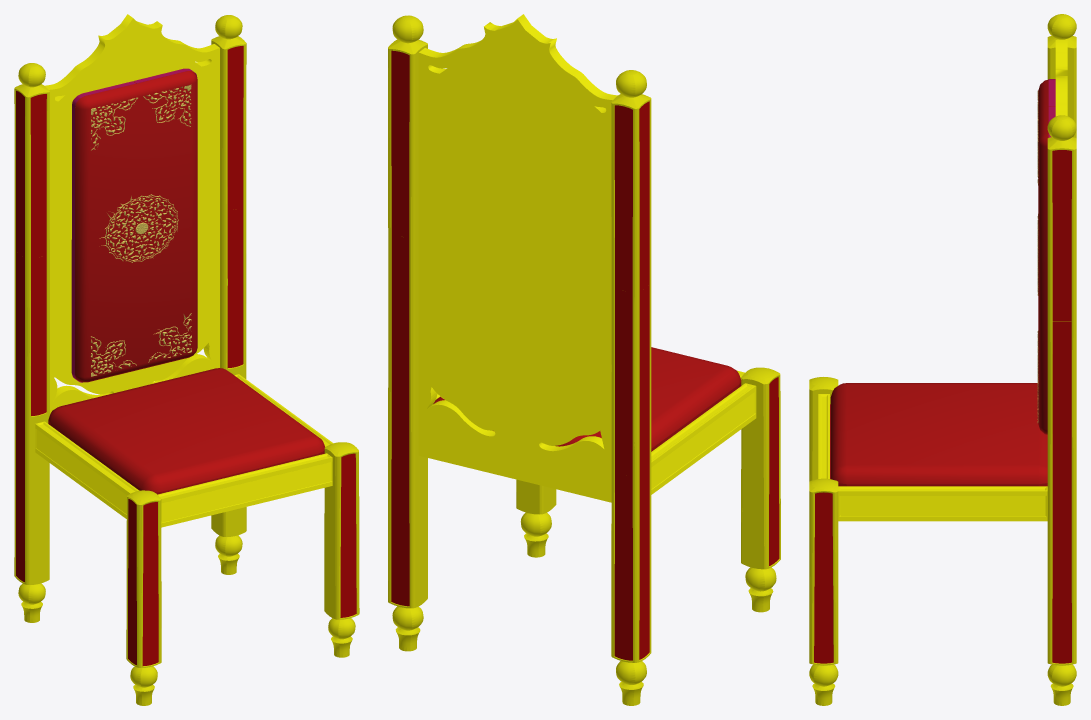
Rendered from Princess Chair.FBX.
The picture shows the model from 3 angles, left to right: view 1: azimuth 30°, elevation 25°; view 2: azimuth 150°, elevation 25°; view 3: azimuth 270°, elevation 25°; orthographic projection. The views are drawn at different scales.
Visible parts, largest first — view 1: polySurface3682; view 2: polySurface3682; view 3: polySurface3682.
Boxes of the visible parts, x1=… form: polySurface3682: x1=14, y1=14, x2=359, y2=705; polySurface3682: x1=388, y1=14, x2=780, y2=705; polySurface3682: x1=809, y1=14, x2=1076, y2=705.
Size of the model in its own units: 45.92 by 115 by 45.49.
